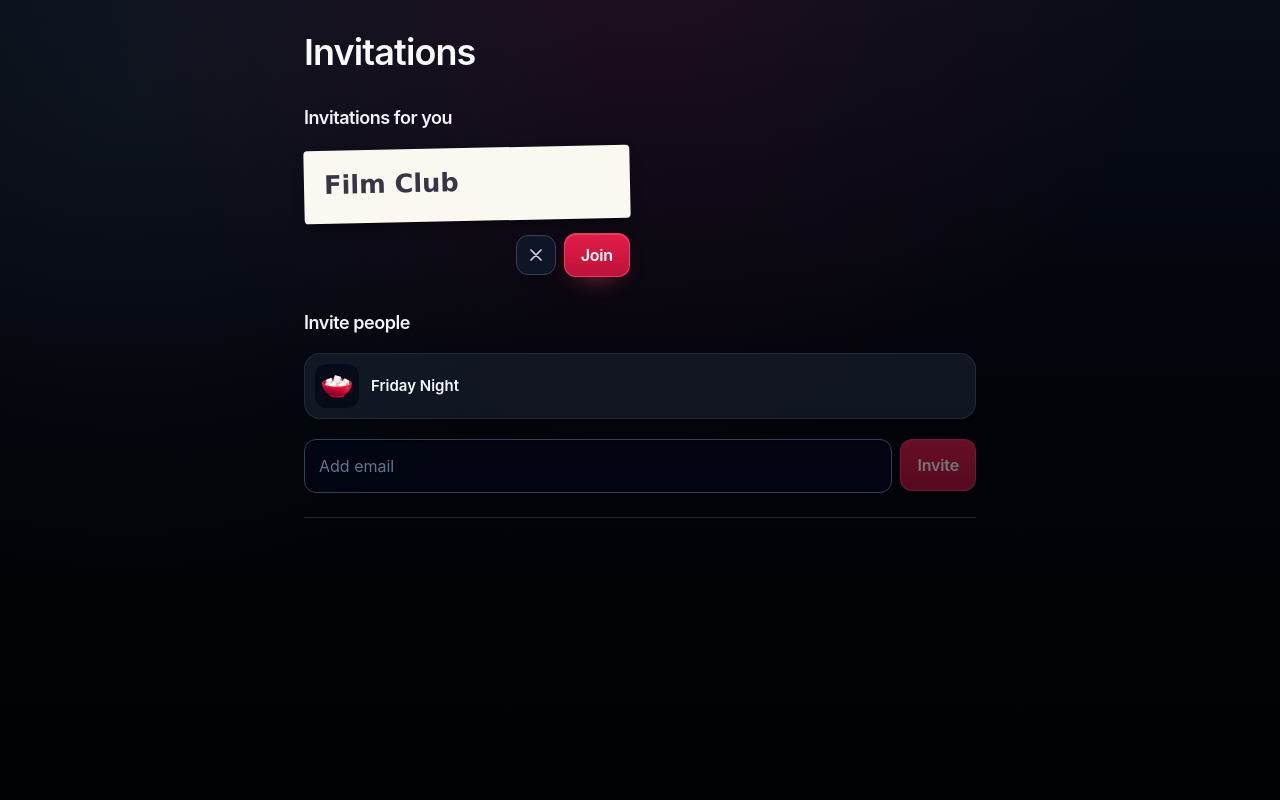
InvitesPage › keeps a failed decline listed and explains why
Click the button named "decline invitation to Film Club" at (536, 255), box [516,235,556,275]
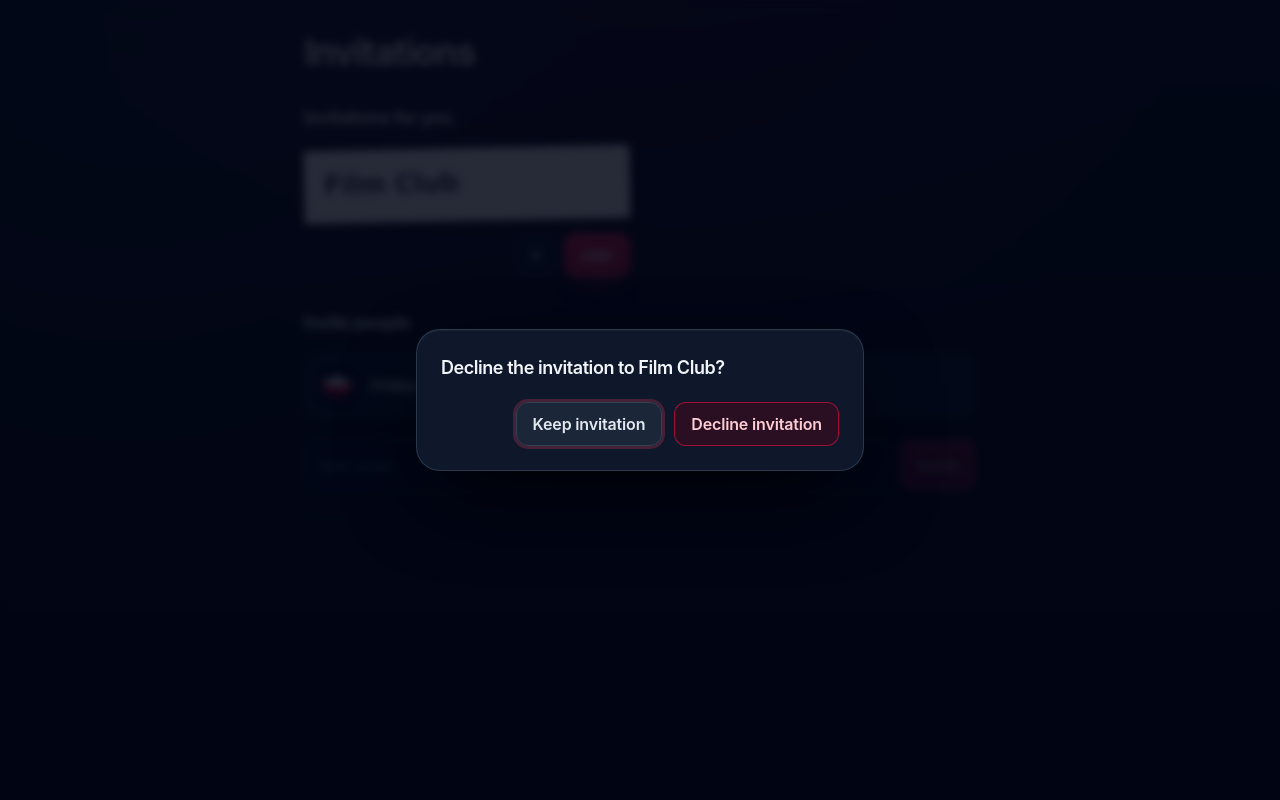
Click the button "Decline invitation" at (757, 424), box [674,402,839,446]
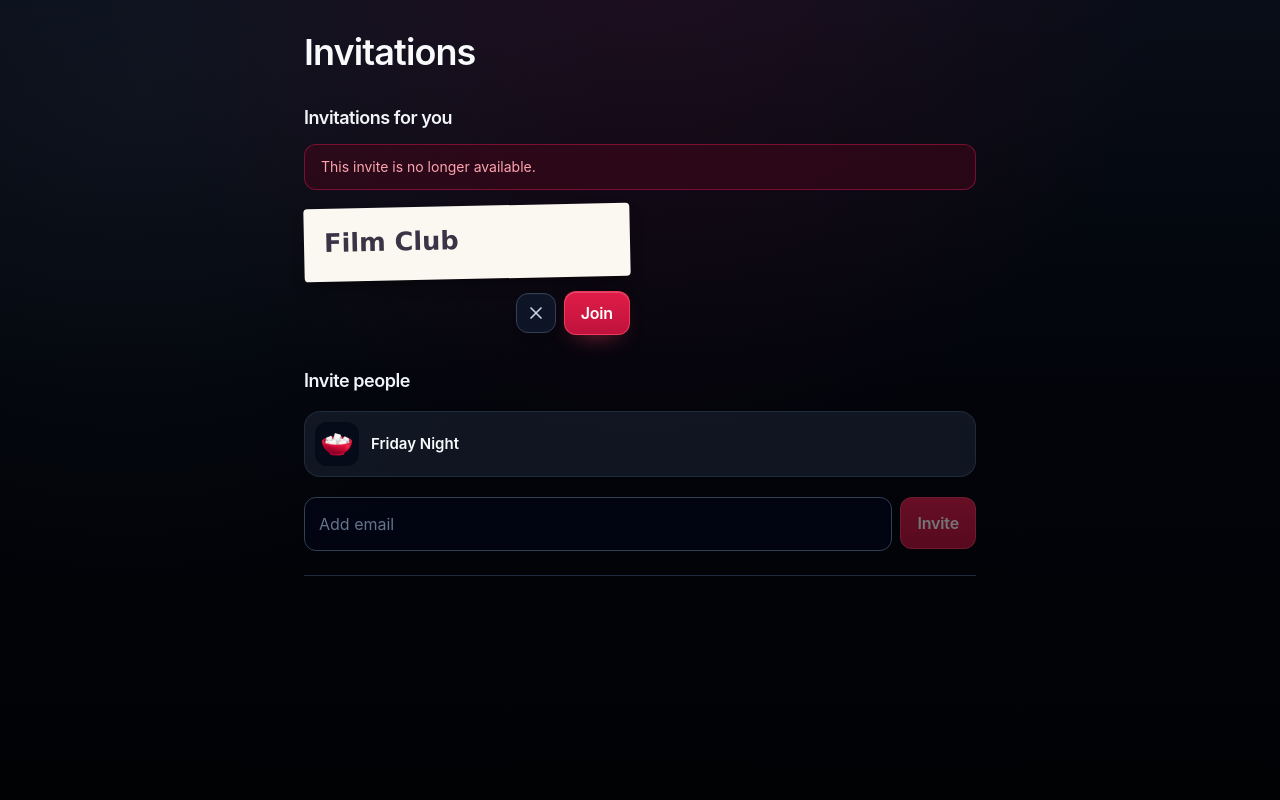
Expected: the button with aria-label "accept invitation to Film Club" is shown, [564,291,630,335]
Now the message reads "This invite is no longer available.", box [321,158,536,175]
